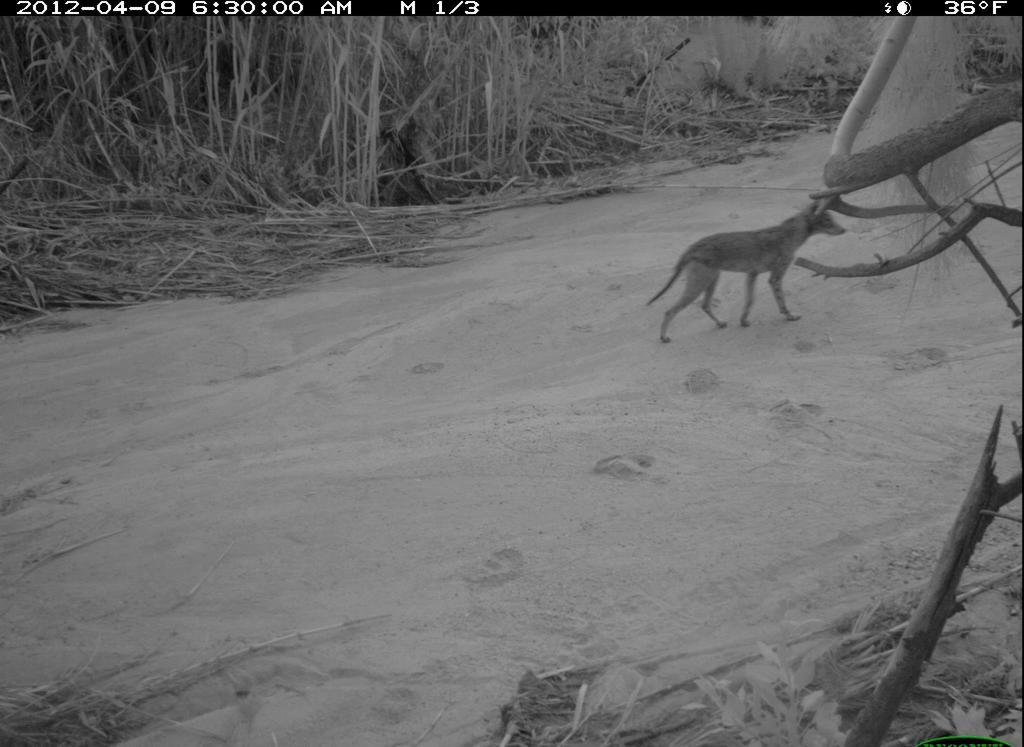coyote: (641, 190, 857, 354)
